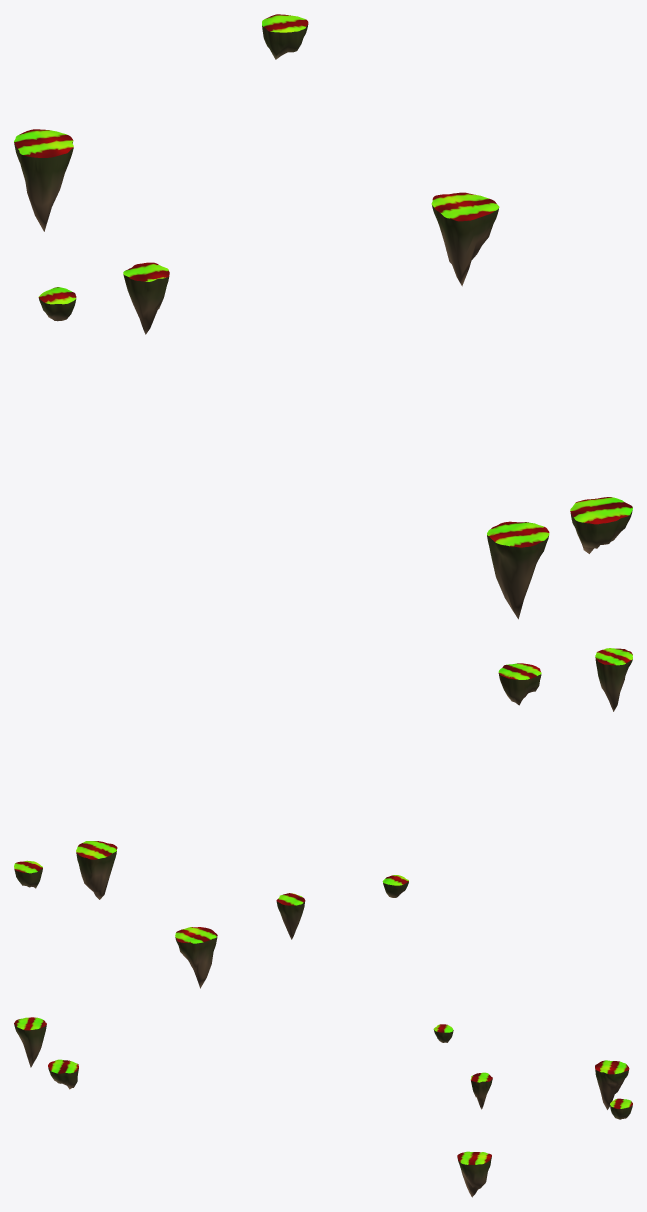
Rendered from SM_H03_Floaters.fbx.
3 views of the same model, one above another, from view 1: azimuth 30°, elevation 25°; view 2: azimuth 150°, elevation 25°; view 3: azimuth 270°, elevation 25° (orthographic). The views are drawn at different scales.
Visible parts, largest first — view 1: SM_H03_Floaters; view 2: SM_H03_Floaters; view 3: SM_H03_Floaters.
Part boxes in pixels (x1,y1,x2,y2): SM_H03_Floaters: (14,14,632,619); SM_H03_Floaters: (14,648,632,988); SM_H03_Floaters: (14,1017,632,1197).
Bounding box in the file's own units: 224 × 74.34 × 483.
